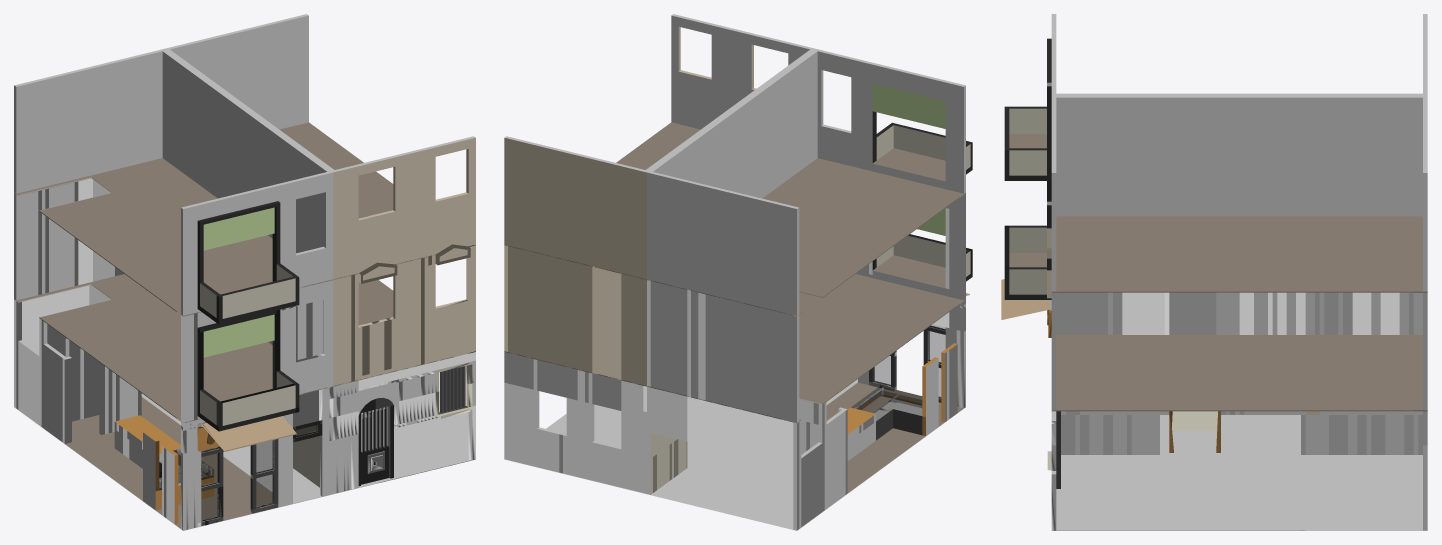
The model's file is Do ciacole.fbx.
3 renders of one model, left to right at view 1: azimuth 30°, elevation 25°; view 2: azimuth 150°, elevation 25°; view 3: azimuth 270°, elevation 25°, orthographic. The views are drawn at different scales.
Parts seen in each view (by area): view 1: muri_e_struttura, Poligono, 2°piano, Cubo_1, Cubo_2; view 2: muri_e_struttura, Poligono, 2°piano, Cubo_1; view 3: muri_e_struttura, Poligono, 2°piano, Cubo_1.
Part boxes in pixels (x1=…): muri_e_struttura: x1=14, y1=178, x2=475, y2=530; Poligono: x1=14, y1=14, x2=475, y2=324; 2°piano: x1=14, y1=122, x2=475, y2=316; Cubo_1: x1=14, y1=274, x2=475, y2=422; Cubo_2: x1=358, y1=382, x2=395, y2=415; muri_e_struttura: x1=504, y1=193, x2=972, y2=530; Poligono: x1=504, y1=14, x2=972, y2=315; 2°piano: x1=505, y1=122, x2=963, y2=316; Cubo_1: x1=504, y1=274, x2=965, y2=422; muri_e_struttura: x1=1001, y1=181, x2=1427, y2=530; Poligono: x1=1004, y1=14, x2=1427, y2=291; 2°piano: x1=1052, y1=216, x2=1427, y2=292; Cubo_1: x1=1052, y1=335, x2=1427, y2=411.
Bounding box in the file's own units: 800 × 841 × 907.
